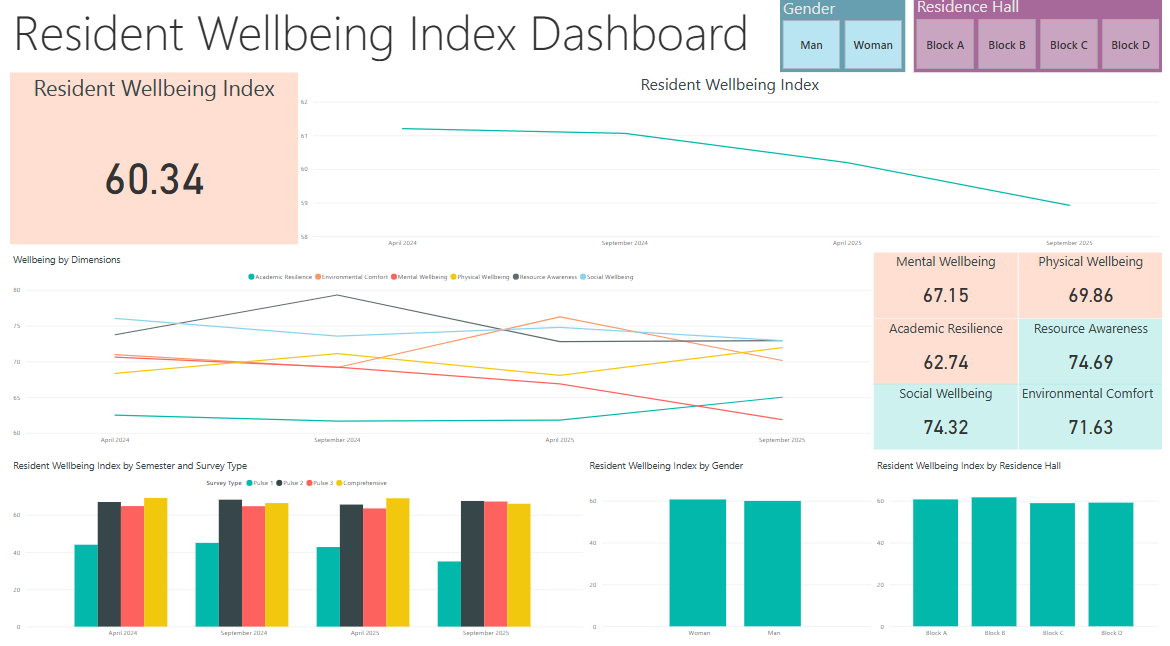

What the dashboard file says about the page in this screenshot:
{"tool":"powerbi","page":{"name":"Resident Wellbeing Index","canvas":[1920,1080],"ordinal":0},"visuals":[{"type":"card","title":"Academic Resilience","fields":{"Values":["Avg(Sheet1.Academic Resilience)"]},"box":[1440.3,539.1,240.1,109.5],"z":0},{"type":"card","title":"Environmental Comfort","fields":{"Values":["Avg(Sheet1.Environmental Comfort)"]},"box":[1680.4,648.6,240.1,109.5],"z":1000},{"type":"card","title":"Mental Wellbeing","fields":{"Values":["Avg(Sheet1.Mental Wellbeing)"]},"box":[1440.3,429.6,240.1,109.5],"z":2000},{"type":"card","title":"Physical Wellbeing","fields":{"Values":["Avg(Sheet1.Physical Wellbeing)"]},"box":[1680.4,429.6,240.1,109.5],"z":3000},{"type":"card","title":"Resource Awareness","fields":{"Values":["Avg(Sheet1.Resource Awareness)"]},"box":[1680.4,539.1,240.1,109.5],"z":4000},{"type":"card","title":"Social Wellbeing","fields":{"Values":["Avg(Sheet1.Social Wellbeing)"]},"box":[1440.3,648.6,240.1,109.5],"z":5000},{"type":"card","title":"Resident Wellbeing Index","fields":{"Values":["Avg(Sheet1.Overall Wellbeing Index)"]},"box":[0,128.4,480.1,286.4],"z":6000},{"type":"clusteredColumnChart","title":"Resident Wellbeing Index by Semester and Survey Type","fields":{"Y":["Avg(Sheet1.Overall Wellbeing Index)"],"Series":["Sheet1.Survey Type"],"Category":["Sheet1.Semester"]},"box":[0,772.8,960.2,307.4],"z":7000},{"type":"lineChart","title":"Wellbeing by Dimensions ","fields":{"Category":["Sheet1.Completion time"],"Y":["Avg(Sheet1.Academic Resilience)","Avg(Sheet1.Environmental Comfort)","Avg(Sheet1.Mental Wellbeing)","Avg(Sheet1.Physical Wellbeing)","Avg(Sheet1.Resource Awareness)","Avg(Sheet1.Social Wellbeing)"]},"box":[0,429.6,1440.3,328.5],"z":8000},{"type":"columnChart","title":"Resident Wellbeing Index by Gender","fields":{"Y":["Avg(Sheet1.Overall Wellbeing Index)"],"Category":["Sheet1.Gender"]},"box":[960.2,772.8,480.1,307.4],"z":9000},{"type":"columnChart","title":"Resident Wellbeing Index by Residence Hall","fields":{"Y":["Avg(Sheet1.Overall Wellbeing Index)"],"Category":["Sheet1.Residence Hall"]},"box":[1440.3,772.8,480.1,307.4],"z":10000},{"type":"lineChart","title":"Resident Wellbeing Index ","fields":{"Y":["Avg(Sheet1.Overall Wellbeing Index)"],"Category":["Sheet1.Semester"]},"box":[480.1,128.4,1440.3,301.1],"z":11000},{"type":"advancedSlicerVisual","fields":{"Values":["Sheet1.Residence Hall"]},"box":[1505.6,0,414.8,128.4],"z":12000},{"type":"advancedSlicerVisual","fields":{"Values":["Sheet1.Gender"]},"box":[1282.4,2.1,208.5,126.3],"z":13000},{"type":"textbox","box":[0,0,1343.5,128.4],"z":14000}]}

Visuals, with their boxes in screenshot pixels (x1, y1, x2, y2), scaled from the page's 1920x1080 canvas onto the 1170x646 screenshot:
"Academic Resilience" card: (878, 322, 1024, 388)
"Environmental Comfort" card: (1024, 388, 1169, 453)
"Mental Wellbeing" card: (878, 257, 1024, 322)
"Physical Wellbeing" card: (1024, 257, 1169, 322)
"Resource Awareness" card: (1024, 322, 1169, 388)
"Social Wellbeing" card: (878, 388, 1024, 453)
"Resident Wellbeing Index" card: (0, 77, 293, 248)
"Resident Wellbeing Index by Semester and Survey Type" clusteredColumnChart: (0, 462, 585, 645)
"Wellbeing by Dimensions " lineChart: (0, 257, 878, 453)
"Resident Wellbeing Index by Gender" columnChart: (585, 462, 878, 645)
"Resident Wellbeing Index by Residence Hall" columnChart: (878, 462, 1169, 645)
"Resident Wellbeing Index " lineChart: (293, 77, 1169, 257)
advancedSlicerVisual - Sheet1.Residence Hall: (917, 0, 1169, 77)
advancedSlicerVisual - Sheet1.Gender: (781, 1, 909, 77)
textbox: (0, 0, 819, 77)
